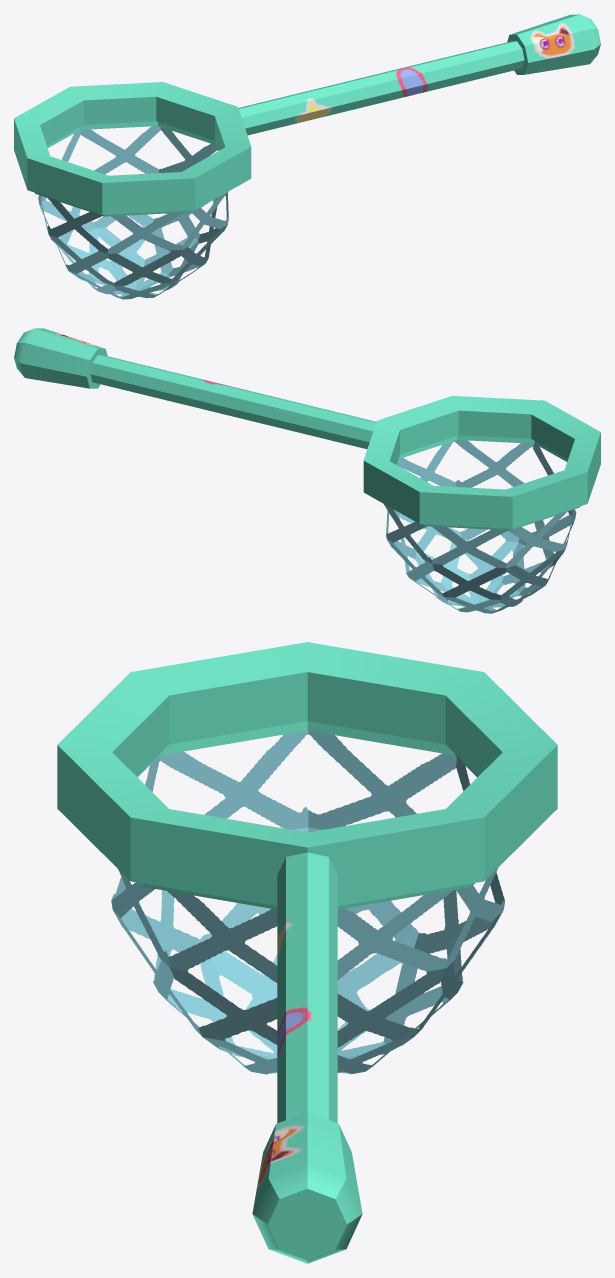
File: FishingNetModel_Fish_04.fbx
The picture shows the model from 3 angles, top to bottom: view 1: azimuth 30°, elevation 25°; view 2: azimuth 150°, elevation 25°; view 3: azimuth 270°, elevation 25°; orthographic projection. The views are drawn at different scales.
Parts seen in each view (by area): view 1: FishingNet_Body, FishingNet_Net, FishingNet_Handle; view 2: FishingNet_Body, FishingNet_Net, FishingNet_Handle; view 3: FishingNet_Body, FishingNet_Net, FishingNet_Handle.
Part boxes in pixels (x1,y1,x2,y2): FishingNet_Body: (14,82,251,216); FishingNet_Net: (38,126,228,299); FishingNet_Handle: (238,14,600,135); FishingNet_Body: (363,396,600,530); FishingNet_Net: (384,440,576,613); FishingNet_Handle: (14,328,376,448); FishingNet_Body: (57,642,557,909); FishingNet_Net: (111,730,504,1074); FishingNet_Handle: (252,852,362,1263).
Bounding box in the file's own units: 212 × 60.97 × 81.6.
